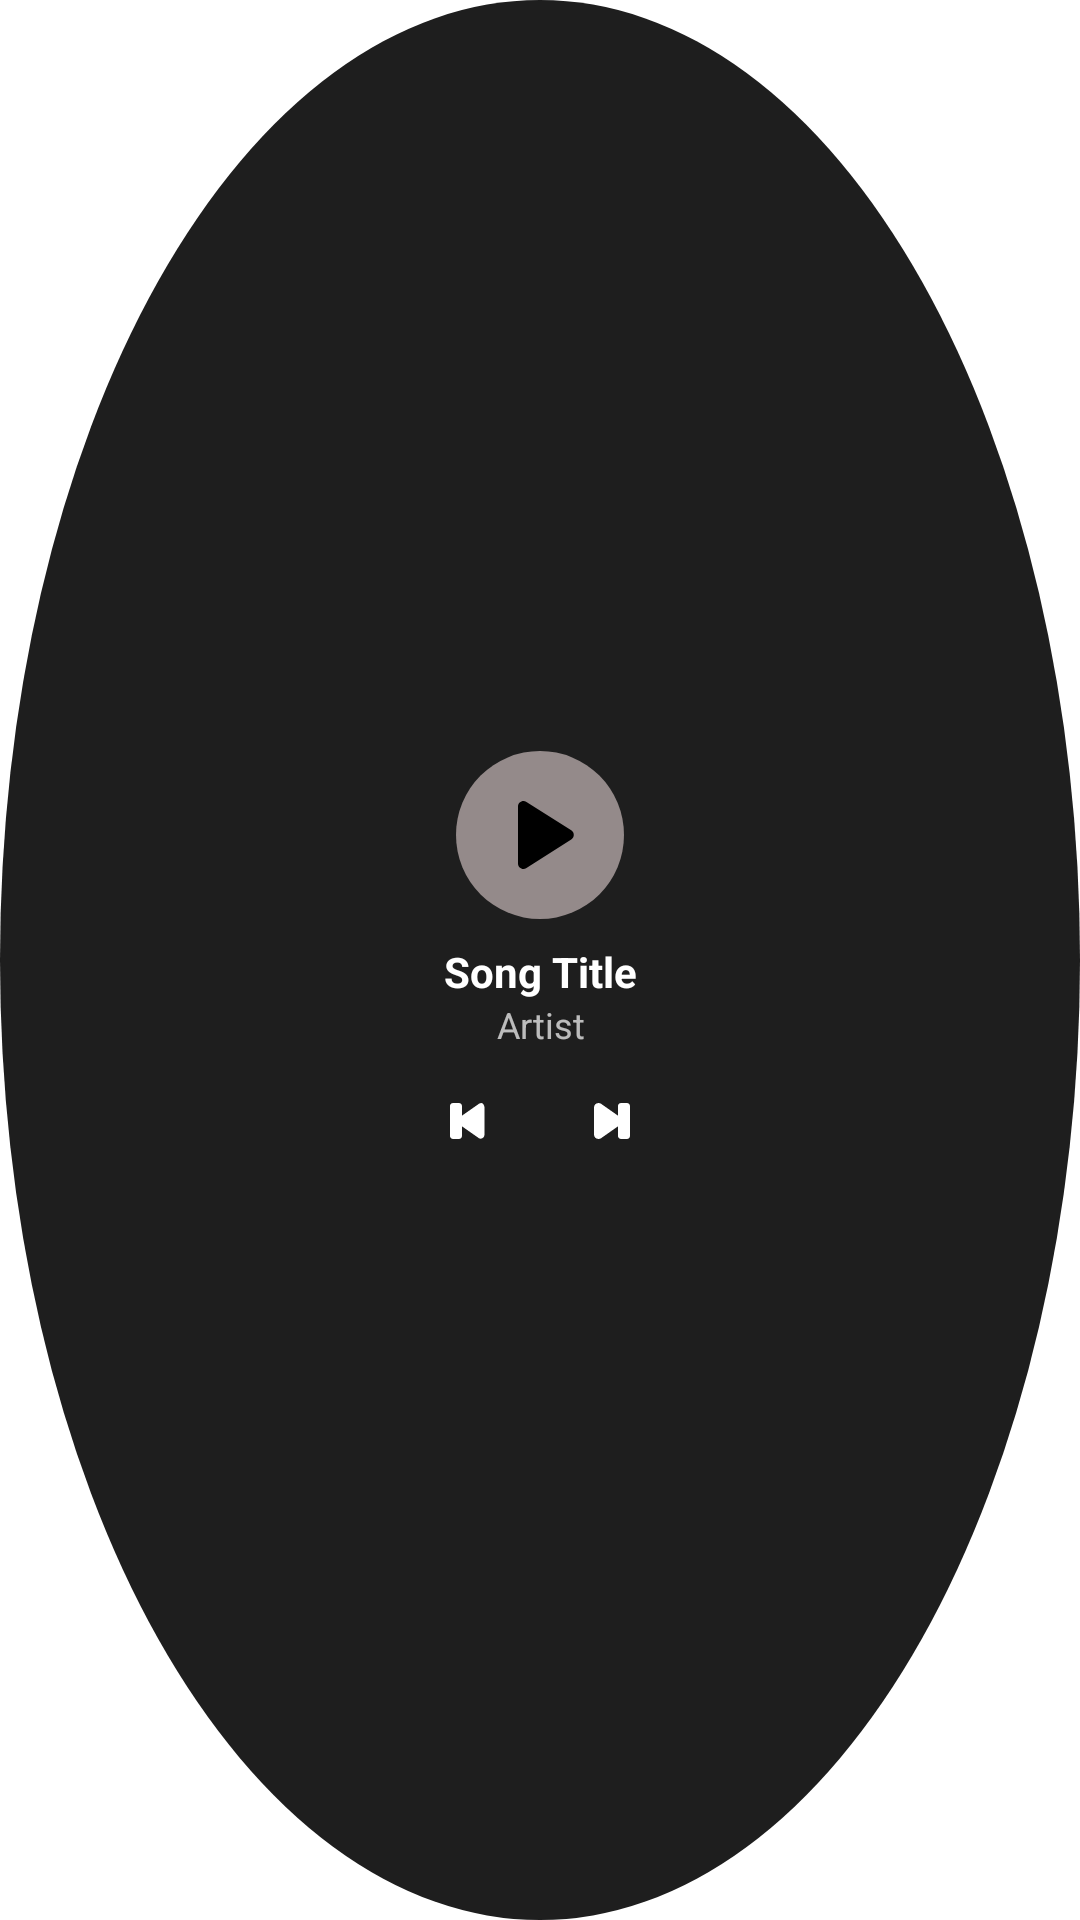

Where icons sit on this 1080 x 1920 app screen, as (x1, y1, x2, y2):
Next: (594, 1103, 630, 1139)
Play/Pause: (456, 751, 624, 919)
Previous: (450, 1103, 485, 1139)
